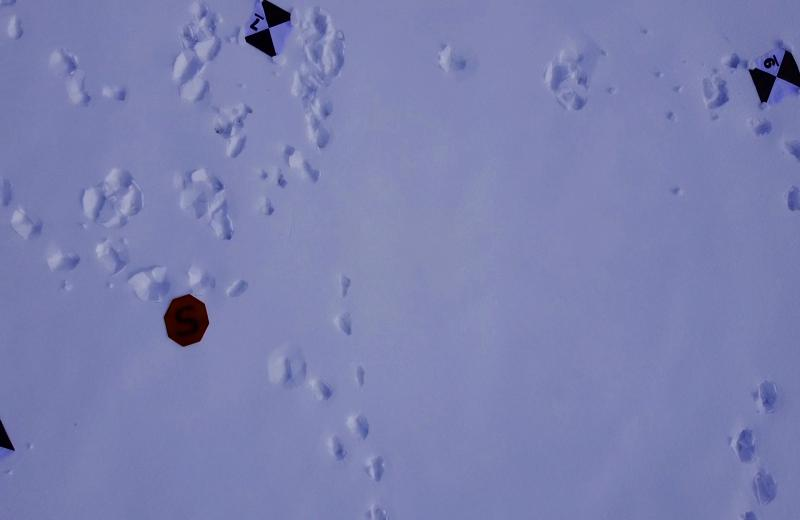Octagon: (163, 294, 210, 348)
